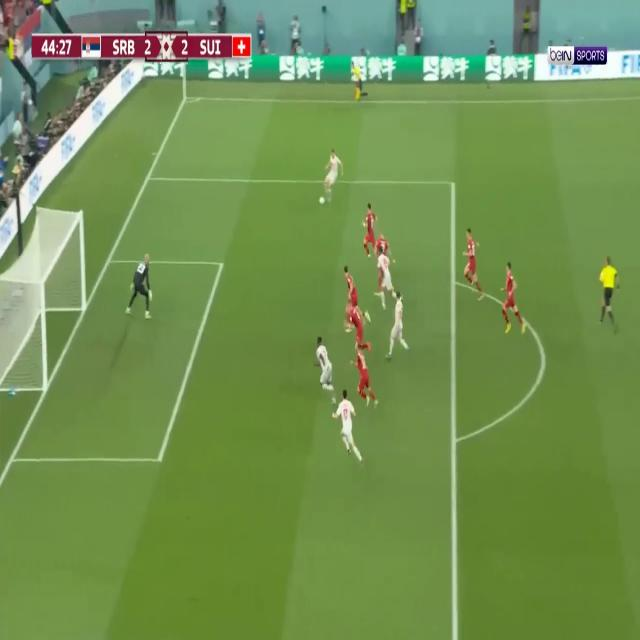Ball: (319, 196, 325, 207)
GoalKeeper: (122, 249, 154, 328)
Referee: (596, 252, 620, 334), (347, 60, 370, 105)
TEAM 1: (497, 256, 527, 342), (457, 223, 488, 302), (349, 350, 376, 406), (342, 297, 371, 348), (374, 228, 394, 296), (363, 200, 379, 257), (339, 259, 357, 303)
TEAM 2: (333, 386, 363, 464), (388, 291, 410, 366), (307, 329, 333, 385), (322, 148, 346, 204), (377, 248, 396, 307)
